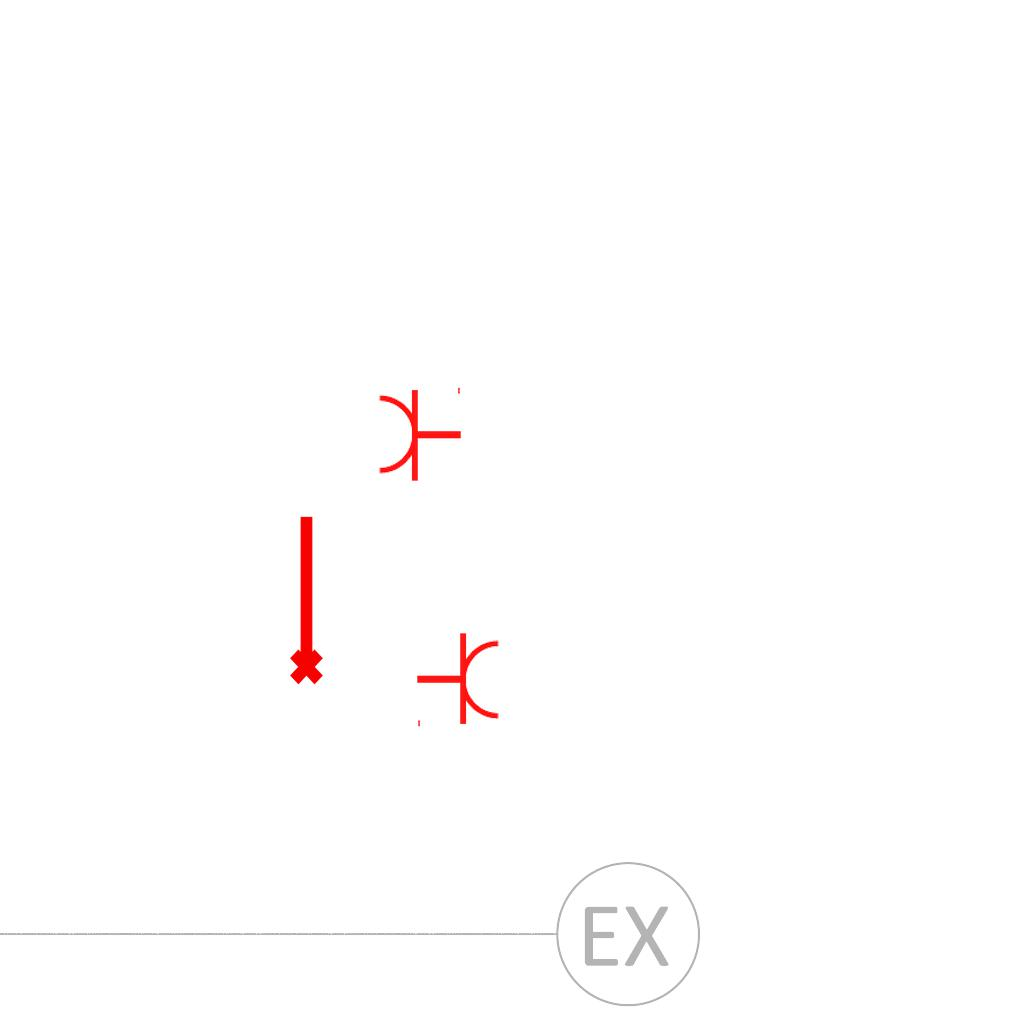ASR_Ansaugoeffnung: (281, 511, 327, 687)
Schukosteckdose_einfach: (376, 383, 463, 483), (415, 631, 502, 731)
